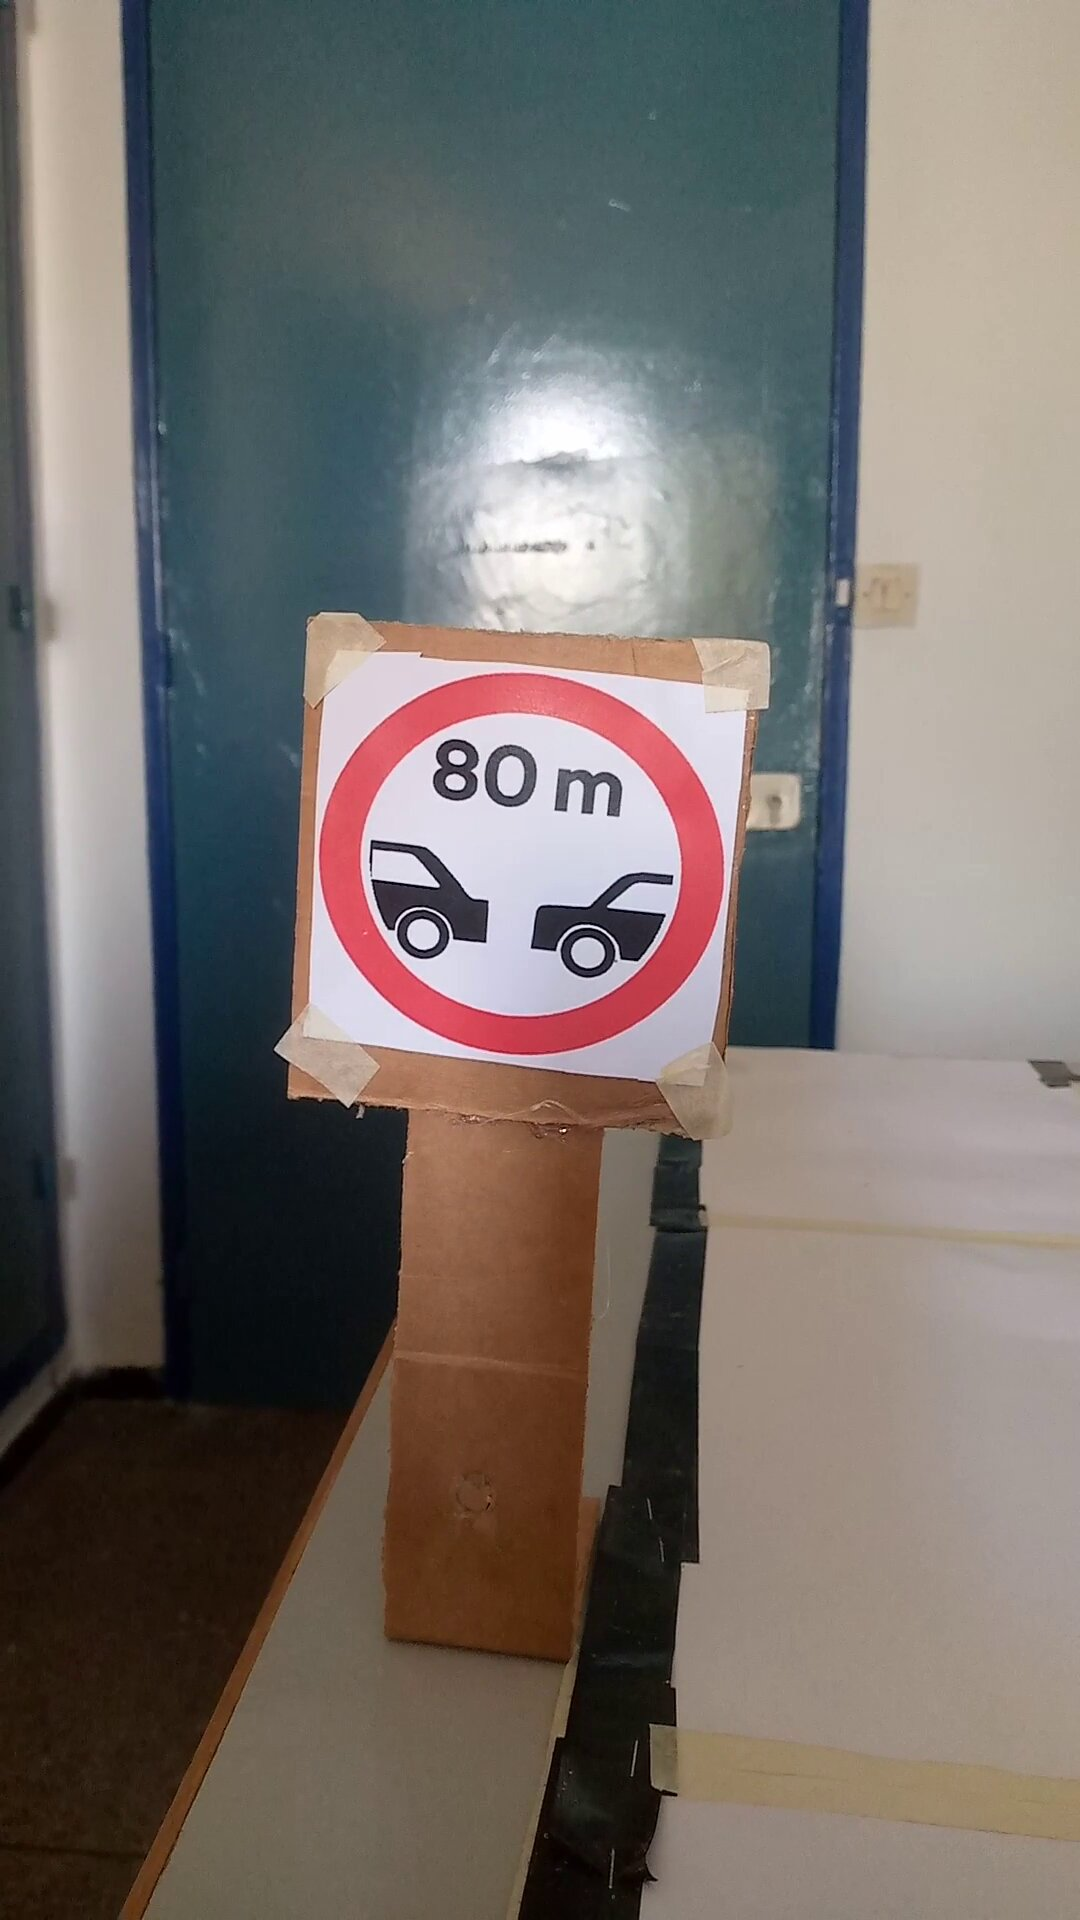panel001: (295, 611, 741, 1143)
